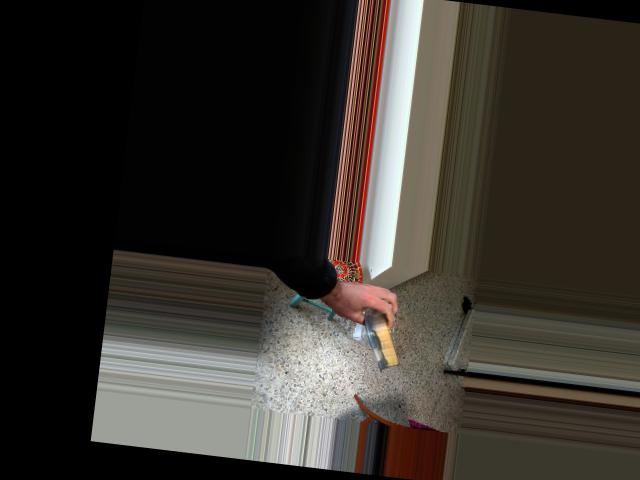cheese: (341, 275, 428, 379)
